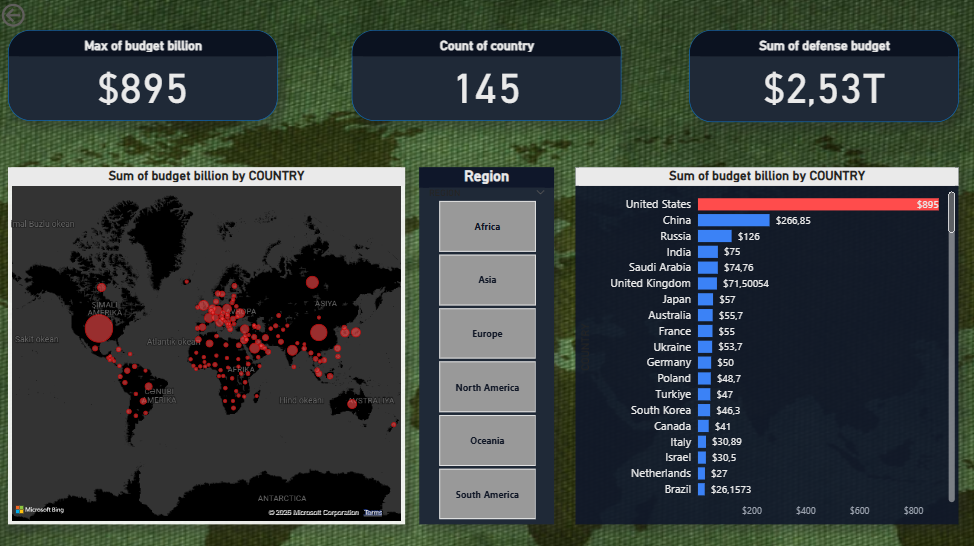

The page's visual inventory and layout, read from the dashboard file:
{"tool":"powerbi","page":{"name":"Overview","canvas":[1280,720],"ordinal":0},"visuals":[{"type":"map","title":"Sum of budget billion by COUNTRY","fields":{"Category":["MILITARY_DATA.COUNTRY"],"Size":["Sum(MILITARY_DATA.budget_billion)"]},"box":[13.8,219.5,520.6,468.1],"z":0},{"type":"card","title":"Sum of defense budget","fields":{"Values":["Sum(MILITARY_DATA.DEFENSE_BUDGET_USD)"]},"box":[906.9,39.7,353.4,120.7],"z":1000},{"type":"card","title":"Count of country","fields":{"Values":["CountNonNull(MILITARY_DATA.COUNTRY)"]},"box":[463.8,39.7,353.4,119],"z":2000},{"type":"actionButton","box":[0,0,100,40],"z":3000},{"type":"card","title":"Max of budget billion","fields":{"Values":["Max(MILITARY_DATA.budget_billion)"]},"box":[13.8,39.7,353.4,119],"z":4000},{"type":"barChart","title":"Sum of budget billion by COUNTRY","fields":{"Category":["MILITARY_DATA.COUNTRY"],"Y":["Sum(MILITARY_DATA.budget_billion)"]},"box":[756.7,219.5,502.6,468.1],"z":5000},{"type":"slicer","title":"Region","fields":{"Values":["MILITARY_DATA.REGION"]},"box":[552.3,219.5,176.7,468.1],"z":6000}]}

Visuals, with their boxes in screenshot pixels (x1, y1, x2, y2), scaled from the page's 1280x720 canvas onto the 974x546 screenshot:
"Sum of budget billion by COUNTRY" map: {"x1": 11, "y1": 166, "x2": 407, "y2": 521}
"Sum of defense budget" card: {"x1": 690, "y1": 30, "x2": 959, "y2": 122}
"Count of country" card: {"x1": 353, "y1": 30, "x2": 622, "y2": 120}
actionButton: {"x1": 0, "y1": 0, "x2": 76, "y2": 30}
"Max of budget billion" card: {"x1": 11, "y1": 30, "x2": 279, "y2": 120}
"Sum of budget billion by COUNTRY" barChart: {"x1": 576, "y1": 166, "x2": 958, "y2": 521}
"Region" slicer: {"x1": 420, "y1": 166, "x2": 555, "y2": 521}
